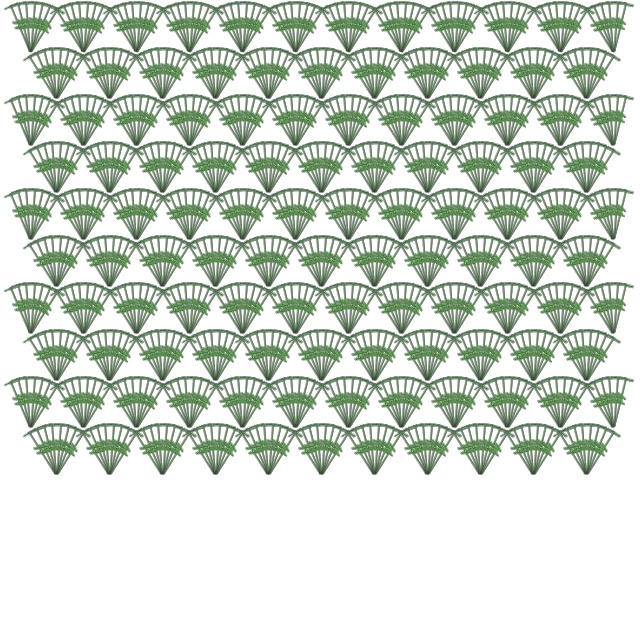fan: (23, 3, 67, 58), (48, 3, 92, 58), (76, 3, 120, 58), (101, 3, 145, 58), (129, 3, 173, 58), (154, 3, 198, 58), (182, 3, 226, 58), (207, 3, 251, 58), (235, 3, 279, 58), (260, 3, 304, 58), (288, 3, 332, 58), (313, 3, 357, 58), (341, 3, 385, 58), (366, 3, 410, 58), (394, 3, 438, 58), (419, 3, 463, 58), (447, 3, 491, 58), (472, 3, 516, 58), (500, 3, 544, 58), (525, 3, 569, 58), (553, 3, 597, 58), (578, 3, 622, 58), (21, 50, 65, 105), (49, 50, 93, 105), (74, 50, 118, 105), (102, 50, 146, 105), (127, 50, 171, 105), (155, 50, 199, 105), (180, 50, 224, 105), (208, 50, 252, 105), (233, 50, 277, 105), (261, 50, 305, 105), (286, 50, 330, 105), (314, 50, 358, 105), (339, 50, 383, 105), (367, 50, 411, 105), (392, 50, 436, 105), (420, 50, 464, 105), (445, 50, 489, 105), (473, 50, 517, 105), (498, 50, 542, 105), (526, 50, 570, 105), (551, 50, 595, 105), (579, 50, 623, 105), (23, 97, 67, 152), (48, 97, 92, 152), (76, 97, 120, 152), (101, 97, 145, 152), (129, 97, 173, 152), (154, 97, 198, 152), (182, 97, 226, 152), (207, 97, 251, 152), (235, 97, 279, 152), (260, 97, 304, 152), (288, 97, 332, 152), (313, 97, 357, 152), (341, 97, 385, 152), (366, 97, 410, 152), (394, 97, 438, 152), (419, 97, 463, 152), (447, 97, 491, 152), (472, 97, 516, 152), (500, 97, 544, 152), (525, 97, 569, 152), (553, 97, 597, 152), (578, 97, 622, 152), (21, 144, 65, 199), (49, 144, 93, 199), (74, 144, 118, 199), (102, 144, 146, 199), (127, 144, 171, 199), (155, 144, 199, 199), (180, 144, 224, 199), (208, 144, 252, 199), (233, 144, 277, 199), (261, 144, 305, 199), (286, 144, 330, 199), (314, 144, 358, 199), (339, 144, 383, 199), (367, 144, 411, 199), (392, 144, 436, 199), (420, 144, 464, 199), (445, 144, 489, 199), (473, 144, 517, 199), (498, 144, 542, 199), (526, 144, 570, 199), (551, 144, 595, 199), (579, 144, 623, 199), (23, 191, 67, 246), (48, 191, 92, 246), (76, 191, 120, 246), (101, 191, 145, 246), (129, 191, 173, 246), (154, 191, 198, 246), (182, 191, 226, 246), (207, 191, 251, 246), (235, 191, 279, 246), (260, 191, 304, 246), (288, 191, 332, 246), (313, 191, 357, 246), (341, 191, 385, 246), (366, 191, 410, 246), (394, 191, 438, 246), (419, 191, 463, 246), (447, 191, 491, 246), (472, 191, 516, 246), (500, 191, 544, 246), (525, 191, 569, 246), (553, 191, 597, 246), (578, 191, 622, 246), (21, 238, 65, 293), (49, 238, 93, 293), (74, 238, 118, 293), (102, 238, 146, 293), (127, 238, 171, 293), (155, 238, 199, 293), (180, 238, 224, 293), (208, 238, 252, 293), (233, 238, 277, 293), (261, 238, 305, 293), (286, 238, 330, 293), (314, 238, 358, 293), (339, 238, 383, 293), (367, 238, 411, 293), (392, 238, 436, 293), (420, 238, 464, 293), (445, 238, 489, 293), (473, 238, 517, 293), (498, 238, 542, 293), (526, 238, 570, 293), (551, 238, 595, 293), (579, 238, 623, 293), (23, 285, 67, 340), (48, 285, 92, 340), (76, 285, 120, 340), (101, 285, 145, 340), (129, 285, 173, 340), (154, 285, 198, 340), (182, 285, 226, 340), (207, 285, 251, 340), (235, 285, 279, 340), (260, 285, 304, 340), (288, 285, 332, 340), (313, 285, 357, 340), (341, 285, 385, 340), (366, 285, 410, 340), (394, 285, 438, 340), (419, 285, 463, 340), (447, 285, 491, 340), (472, 285, 516, 340), (500, 285, 544, 340), (525, 285, 569, 340), (553, 285, 597, 340), (578, 285, 622, 340), (21, 332, 65, 387), (49, 332, 93, 387), (74, 332, 118, 387), (102, 332, 146, 387), (127, 332, 171, 387), (155, 332, 199, 387), (180, 332, 224, 387), (208, 332, 252, 387), (233, 332, 277, 387), (261, 332, 305, 387), (286, 332, 330, 387), (314, 332, 358, 387), (339, 332, 383, 387), (367, 332, 411, 387), (392, 332, 436, 387), (420, 332, 464, 387), (445, 332, 489, 387), (473, 332, 517, 387), (498, 332, 542, 387), (526, 332, 570, 387), (551, 332, 595, 387), (579, 332, 623, 387), (23, 379, 67, 434), (48, 379, 92, 434), (76, 379, 120, 434), (101, 379, 145, 434), (129, 379, 173, 434), (154, 379, 198, 434), (182, 379, 226, 434), (207, 379, 251, 434), (235, 379, 279, 434), (260, 379, 304, 434), (288, 379, 332, 434), (313, 379, 357, 434), (341, 379, 385, 434), (366, 379, 410, 434), (394, 379, 438, 434), (419, 379, 463, 434), (447, 379, 491, 434), (472, 379, 516, 434), (500, 379, 544, 434), (525, 379, 569, 434), (553, 379, 597, 434), (578, 379, 622, 434), (21, 426, 65, 481), (49, 426, 93, 481), (74, 426, 118, 481), (102, 426, 146, 481), (127, 426, 171, 481), (155, 426, 199, 481), (180, 426, 224, 481), (208, 426, 252, 481), (233, 426, 277, 481), (261, 426, 305, 481), (286, 426, 330, 481), (314, 426, 358, 481), (339, 426, 383, 481), (367, 426, 411, 481), (392, 426, 436, 481), (420, 426, 464, 481), (445, 426, 489, 481), (473, 426, 517, 481), (498, 426, 542, 481), (526, 426, 570, 481), (551, 426, 595, 481), (579, 426, 623, 481), (2, 1, 39, 56), (23, 1, 60, 56), (55, 1, 92, 56), (76, 1, 113, 56), (108, 1, 145, 56), (129, 1, 166, 56), (161, 1, 198, 56), (182, 1, 219, 56), (214, 1, 251, 56), (235, 1, 272, 56), (267, 1, 304, 56), (288, 1, 325, 56), (320, 1, 357, 56), (341, 1, 378, 56), (373, 1, 410, 56), (394, 1, 431, 56), (426, 1, 463, 56), (447, 1, 484, 56), (479, 1, 516, 56), (500, 1, 537, 56), (532, 1, 569, 56), (553, 1, 590, 56), (585, 1, 622, 56), (28, 48, 65, 103), (49, 48, 86, 103), (81, 48, 118, 103), (102, 48, 139, 103), (134, 48, 171, 103), (155, 48, 192, 103), (187, 48, 224, 103), (208, 48, 245, 103), (240, 48, 277, 103), (261, 48, 298, 103), (293, 48, 330, 103), (314, 48, 351, 103), (346, 48, 383, 103), (367, 48, 404, 103), (399, 48, 436, 103), (420, 48, 457, 103), (452, 48, 489, 103), (473, 48, 510, 103), (505, 48, 542, 103), (526, 48, 563, 103), (558, 48, 595, 103), (579, 48, 616, 103), (2, 95, 39, 150), (23, 95, 60, 150), (55, 95, 92, 150), (76, 95, 113, 150), (108, 95, 145, 150), (129, 95, 166, 150), (161, 95, 198, 150), (182, 95, 219, 150), (214, 95, 251, 150), (235, 95, 272, 150), (267, 95, 304, 150), (288, 95, 325, 150), (320, 95, 357, 150), (341, 95, 378, 150), (373, 95, 410, 150), (394, 95, 431, 150), (426, 95, 463, 150), (447, 95, 484, 150), (479, 95, 516, 150), (500, 95, 537, 150), (532, 95, 569, 150), (553, 95, 590, 150), (585, 95, 622, 150), (28, 142, 65, 197), (49, 142, 86, 197), (81, 142, 118, 197), (102, 142, 139, 197), (134, 142, 171, 197), (155, 142, 192, 197), (187, 142, 224, 197), (208, 142, 245, 197), (240, 142, 277, 197), (261, 142, 298, 197), (293, 142, 330, 197), (314, 142, 351, 197), (346, 142, 383, 197), (367, 142, 404, 197), (399, 142, 436, 197), (420, 142, 457, 197), (452, 142, 489, 197), (473, 142, 510, 197), (505, 142, 542, 197), (526, 142, 563, 197), (558, 142, 595, 197), (579, 142, 616, 197), (2, 189, 39, 244), (23, 189, 60, 244), (55, 189, 92, 244), (76, 189, 113, 244), (108, 189, 145, 244), (129, 189, 166, 244), (161, 189, 198, 244), (182, 189, 219, 244), (214, 189, 251, 244), (235, 189, 272, 244), (267, 189, 304, 244), (288, 189, 325, 244), (320, 189, 357, 244), (341, 189, 378, 244), (373, 189, 410, 244), (394, 189, 431, 244), (426, 189, 463, 244), (447, 189, 484, 244), (479, 189, 516, 244), (500, 189, 537, 244), (532, 189, 569, 244), (553, 189, 590, 244), (585, 189, 622, 244), (28, 236, 65, 291), (49, 236, 86, 291), (81, 236, 118, 291), (102, 236, 139, 291), (134, 236, 171, 291), (155, 236, 192, 291), (187, 236, 224, 291), (208, 236, 245, 291), (240, 236, 277, 291), (261, 236, 298, 291), (293, 236, 330, 291), (314, 236, 351, 291), (346, 236, 383, 291), (367, 236, 404, 291), (399, 236, 436, 291), (420, 236, 457, 291), (452, 236, 489, 291), (473, 236, 510, 291), (505, 236, 542, 291), (526, 236, 563, 291), (558, 236, 595, 291), (579, 236, 616, 291), (2, 283, 39, 338), (23, 283, 60, 338), (55, 283, 92, 338), (76, 283, 113, 338), (108, 283, 145, 338), (129, 283, 166, 338), (161, 283, 198, 338), (182, 283, 219, 338), (214, 283, 251, 338), (235, 283, 272, 338), (267, 283, 304, 338), (288, 283, 325, 338), (320, 283, 357, 338), (341, 283, 378, 338), (373, 283, 410, 338), (394, 283, 431, 338), (426, 283, 463, 338), (447, 283, 484, 338), (479, 283, 516, 338), (500, 283, 537, 338), (532, 283, 569, 338), (553, 283, 590, 338), (585, 283, 622, 338), (28, 330, 65, 385), (49, 330, 86, 385), (81, 330, 118, 385), (102, 330, 139, 385), (134, 330, 171, 385), (155, 330, 192, 385), (187, 330, 224, 385), (208, 330, 245, 385), (240, 330, 277, 385), (261, 330, 298, 385), (293, 330, 330, 385), (314, 330, 351, 385), (346, 330, 383, 385), (367, 330, 404, 385), (399, 330, 436, 385), (420, 330, 457, 385), (452, 330, 489, 385), (473, 330, 510, 385), (505, 330, 542, 385), (526, 330, 563, 385), (558, 330, 595, 385), (579, 330, 616, 385), (2, 377, 39, 432), (23, 377, 60, 432), (55, 377, 92, 432), (76, 377, 113, 432), (108, 377, 145, 432), (129, 377, 166, 432), (161, 377, 198, 432), (182, 377, 219, 432), (214, 377, 251, 432), (235, 377, 272, 432), (267, 377, 304, 432), (288, 377, 325, 432), (320, 377, 357, 432), (341, 377, 378, 432), (373, 377, 410, 432), (394, 377, 431, 432), (426, 377, 463, 432), (447, 377, 484, 432), (479, 377, 516, 432), (500, 377, 537, 432), (532, 377, 569, 432), (553, 377, 590, 432), (585, 377, 622, 432), (28, 424, 65, 479), (49, 424, 86, 479), (81, 424, 118, 479), (102, 424, 139, 479), (134, 424, 171, 479), (155, 424, 192, 479), (187, 424, 224, 479), (208, 424, 245, 479), (240, 424, 277, 479), (261, 424, 298, 479), (293, 424, 330, 479), (314, 424, 351, 479), (346, 424, 383, 479), (367, 424, 404, 479), (399, 424, 436, 479), (420, 424, 457, 479), (452, 424, 489, 479), (473, 424, 510, 479), (505, 424, 542, 479), (526, 424, 563, 479), (558, 424, 595, 479), (579, 424, 616, 479), (36, 46, 66, 102), (48, 46, 78, 102), (89, 46, 119, 102), (101, 46, 131, 102), (142, 46, 172, 102), (154, 46, 184, 102), (195, 46, 225, 102), (207, 46, 237, 102), (248, 46, 278, 102), (260, 46, 290, 102), (301, 46, 331, 102), (313, 46, 343, 102), (354, 46, 384, 102), (366, 46, 396, 102), (407, 46, 437, 102), (419, 46, 449, 102), (460, 46, 490, 102), (472, 46, 502, 102), (513, 46, 543, 102), (525, 46, 555, 102), (566, 46, 596, 102), (578, 46, 608, 102), (10, 93, 40, 149), (22, 93, 52, 149), (63, 93, 93, 149), (75, 93, 105, 149), (116, 93, 146, 149), (128, 93, 158, 149), (169, 93, 199, 149), (181, 93, 211, 149), (222, 93, 252, 149), (234, 93, 264, 149), (275, 93, 305, 149), (287, 93, 317, 149), (328, 93, 358, 149), (340, 93, 370, 149), (381, 93, 411, 149), (393, 93, 423, 149), (434, 93, 464, 149), (446, 93, 476, 149), (487, 93, 517, 149), (499, 93, 529, 149), (540, 93, 570, 149), (552, 93, 582, 149), (593, 93, 623, 149), (605, 93, 635, 149), (36, 140, 66, 196), (48, 140, 78, 196), (89, 140, 119, 196), (101, 140, 131, 196), (142, 140, 172, 196), (154, 140, 184, 196), (195, 140, 225, 196), (207, 140, 237, 196), (248, 140, 278, 196), (260, 140, 290, 196), (301, 140, 331, 196), (313, 140, 343, 196), (354, 140, 384, 196), (366, 140, 396, 196), (407, 140, 437, 196), (419, 140, 449, 196), (460, 140, 490, 196), (472, 140, 502, 196), (513, 140, 543, 196), (525, 140, 555, 196), (566, 140, 596, 196), (578, 140, 608, 196), (10, 187, 40, 243), (22, 187, 52, 243), (63, 187, 93, 243), (75, 187, 105, 243), (116, 187, 146, 243), (128, 187, 158, 243), (169, 187, 199, 243), (181, 187, 211, 243), (222, 187, 252, 243), (234, 187, 264, 243), (275, 187, 305, 243), (287, 187, 317, 243), (328, 187, 358, 243), (340, 187, 370, 243), (381, 187, 411, 243), (393, 187, 423, 243), (434, 187, 464, 243), (446, 187, 476, 243), (487, 187, 517, 243), (499, 187, 529, 243), (540, 187, 570, 243), (552, 187, 582, 243), (593, 187, 623, 243), (605, 187, 635, 243), (36, 234, 66, 290), (48, 234, 78, 290), (89, 234, 119, 290), (101, 234, 131, 290), (142, 234, 172, 290), (154, 234, 184, 290), (195, 234, 225, 290), (207, 234, 237, 290), (248, 234, 278, 290), (260, 234, 290, 290), (301, 234, 331, 290), (313, 234, 343, 290), (354, 234, 384, 290), (366, 234, 396, 290), (407, 234, 437, 290), (419, 234, 449, 290), (460, 234, 490, 290), (472, 234, 502, 290), (513, 234, 543, 290), (525, 234, 555, 290), (566, 234, 596, 290), (578, 234, 608, 290), (10, 281, 40, 337), (22, 281, 52, 337), (63, 281, 93, 337), (75, 281, 105, 337), (116, 281, 146, 337), (128, 281, 158, 337), (169, 281, 199, 337), (181, 281, 211, 337), (222, 281, 252, 337), (234, 281, 264, 337), (275, 281, 305, 337), (287, 281, 317, 337), (328, 281, 358, 337), (340, 281, 370, 337), (381, 281, 411, 337), (393, 281, 423, 337), (434, 281, 464, 337), (446, 281, 476, 337), (487, 281, 517, 337), (499, 281, 529, 337), (540, 281, 570, 337), (552, 281, 582, 337), (593, 281, 623, 337), (605, 281, 635, 337), (36, 328, 66, 384), (48, 328, 78, 384), (89, 328, 119, 384), (101, 328, 131, 384), (142, 328, 172, 384), (154, 328, 184, 384), (195, 328, 225, 384), (207, 328, 237, 384), (248, 328, 278, 384), (260, 328, 290, 384), (301, 328, 331, 384), (313, 328, 343, 384), (354, 328, 384, 384), (366, 328, 396, 384), (407, 328, 437, 384), (419, 328, 449, 384), (460, 328, 490, 384), (472, 328, 502, 384), (513, 328, 543, 384), (525, 328, 555, 384), (566, 328, 596, 384), (578, 328, 608, 384), (10, 375, 40, 431), (22, 375, 52, 431), (63, 375, 93, 431), (75, 375, 105, 431), (116, 375, 146, 431), (128, 375, 158, 431), (169, 375, 199, 431), (181, 375, 211, 431), (222, 375, 252, 431), (234, 375, 264, 431), (275, 375, 305, 431), (287, 375, 317, 431), (328, 375, 358, 431), (340, 375, 370, 431), (381, 375, 411, 431), (393, 375, 423, 431), (434, 375, 464, 431), (446, 375, 476, 431), (487, 375, 517, 431), (499, 375, 529, 431), (540, 375, 570, 431), (552, 375, 582, 431), (593, 375, 623, 431), (605, 375, 635, 431), (36, 422, 66, 478), (48, 422, 78, 478), (89, 422, 119, 478), (101, 422, 131, 478), (142, 422, 172, 478), (154, 422, 184, 478), (195, 422, 225, 478), (207, 422, 237, 478), (248, 422, 278, 478), (260, 422, 290, 478), (301, 422, 331, 478), (313, 422, 343, 478), (354, 422, 384, 478), (366, 422, 396, 478), (407, 422, 437, 478), (419, 422, 449, 478), (460, 422, 490, 478), (472, 422, 502, 478), (513, 422, 543, 478), (525, 422, 555, 478), (566, 422, 596, 478), (578, 422, 608, 478), (10, 0, 40, 55), (22, 0, 52, 55), (63, 0, 93, 55), (75, 0, 105, 55), (116, 0, 146, 55), (128, 0, 158, 55), (169, 0, 199, 55), (181, 0, 211, 55), (222, 0, 252, 55), (234, 0, 264, 55), (275, 0, 305, 55), (287, 0, 317, 55), (328, 0, 358, 55), (340, 0, 370, 55), (381, 0, 411, 55), (393, 0, 423, 55), (434, 0, 464, 55), (446, 0, 476, 55), (487, 0, 517, 55), (499, 0, 529, 55), (540, 0, 570, 55), (552, 0, 582, 55), (593, 0, 623, 55), (605, 0, 635, 55), (44, 46, 66, 101), (48, 46, 70, 101), (97, 46, 119, 101), (101, 46, 123, 101), (150, 46, 172, 101), (154, 46, 176, 101), (203, 46, 225, 101), (207, 46, 229, 101), (256, 46, 278, 101), (260, 46, 282, 101), (309, 46, 331, 101), (313, 46, 335, 101), (362, 46, 384, 101), (366, 46, 388, 101), (415, 46, 437, 101), (419, 46, 441, 101), (468, 46, 490, 101), (472, 46, 494, 101), (521, 46, 543, 101), (525, 46, 547, 101), (574, 46, 596, 101), (578, 46, 600, 101), (18, 93, 40, 148), (22, 93, 44, 148), (71, 93, 93, 148), (75, 93, 97, 148), (124, 93, 146, 148), (128, 93, 150, 148), (177, 93, 199, 148), (181, 93, 203, 148), (230, 93, 252, 148), (234, 93, 256, 148), (283, 93, 305, 148), (287, 93, 309, 148), (336, 93, 358, 148), (340, 93, 362, 148), (389, 93, 411, 148), (393, 93, 415, 148), (442, 93, 464, 148), (446, 93, 468, 148), (495, 93, 517, 148), (499, 93, 521, 148), (548, 93, 570, 148), (552, 93, 574, 148), (601, 93, 623, 148), (605, 93, 627, 148), (44, 140, 66, 195), (48, 140, 70, 195), (97, 140, 119, 195), (101, 140, 123, 195), (150, 140, 172, 195), (154, 140, 176, 195), (203, 140, 225, 195), (207, 140, 229, 195), (256, 140, 278, 195), (260, 140, 282, 195), (309, 140, 331, 195), (313, 140, 335, 195), (362, 140, 384, 195), (366, 140, 388, 195), (415, 140, 437, 195), (419, 140, 441, 195), (468, 140, 490, 195), (472, 140, 494, 195), (521, 140, 543, 195), (525, 140, 547, 195), (574, 140, 596, 195), (578, 140, 600, 195), (18, 187, 40, 242), (22, 187, 44, 242), (71, 187, 93, 242), (75, 187, 97, 242), (124, 187, 146, 242), (128, 187, 150, 242), (177, 187, 199, 242), (181, 187, 203, 242), (230, 187, 252, 242), (234, 187, 256, 242), (283, 187, 305, 242), (287, 187, 309, 242), (336, 187, 358, 242), (340, 187, 362, 242), (389, 187, 411, 242), (393, 187, 415, 242), (442, 187, 464, 242), (446, 187, 468, 242), (495, 187, 517, 242), (499, 187, 521, 242), (548, 187, 570, 242), (552, 187, 574, 242), (601, 187, 623, 242), (605, 187, 627, 242), (44, 234, 66, 289), (48, 234, 70, 289), (97, 234, 119, 289), (101, 234, 123, 289), (150, 234, 172, 289), (154, 234, 176, 289), (203, 234, 225, 289), (207, 234, 229, 289), (256, 234, 278, 289), (260, 234, 282, 289), (309, 234, 331, 289), (313, 234, 335, 289), (362, 234, 384, 289), (366, 234, 388, 289), (415, 234, 437, 289), (419, 234, 441, 289), (468, 234, 490, 289), (472, 234, 494, 289), (521, 234, 543, 289), (525, 234, 547, 289), (574, 234, 596, 289), (578, 234, 600, 289), (18, 281, 40, 336), (22, 281, 44, 336), (71, 281, 93, 336), (75, 281, 97, 336), (124, 281, 146, 336), (128, 281, 150, 336), (177, 281, 199, 336), (181, 281, 203, 336), (230, 281, 252, 336), (234, 281, 256, 336), (283, 281, 305, 336), (287, 281, 309, 336), (336, 281, 358, 336), (340, 281, 362, 336), (389, 281, 411, 336), (393, 281, 415, 336), (442, 281, 464, 336), (446, 281, 468, 336), (495, 281, 517, 336), (499, 281, 521, 336), (548, 281, 570, 336), (552, 281, 574, 336), (601, 281, 623, 336), (605, 281, 627, 336), (44, 328, 66, 383), (48, 328, 70, 383), (97, 328, 119, 383), (101, 328, 123, 383), (150, 328, 172, 383), (154, 328, 176, 383), (203, 328, 225, 383), (207, 328, 229, 383), (256, 328, 278, 383), (260, 328, 282, 383), (309, 328, 331, 383), (313, 328, 335, 383), (362, 328, 384, 383), (366, 328, 388, 383), (415, 328, 437, 383), (419, 328, 441, 383), (468, 328, 490, 383), (472, 328, 494, 383), (521, 328, 543, 383), (525, 328, 547, 383), (574, 328, 596, 383), (578, 328, 600, 383), (18, 375, 40, 430), (22, 375, 44, 430), (71, 375, 93, 430), (75, 375, 97, 430), (124, 375, 146, 430), (128, 375, 150, 430), (177, 375, 199, 430), (181, 375, 203, 430), (230, 375, 252, 430), (234, 375, 256, 430), (283, 375, 305, 430), (287, 375, 309, 430), (336, 375, 358, 430), (340, 375, 362, 430), (389, 375, 411, 430), (393, 375, 415, 430), (442, 375, 464, 430), (446, 375, 468, 430), (495, 375, 517, 430), (499, 375, 521, 430), (548, 375, 570, 430), (552, 375, 574, 430), (601, 375, 623, 430), (605, 375, 627, 430), (44, 422, 66, 477), (48, 422, 70, 477), (97, 422, 119, 477), (101, 422, 123, 477), (150, 422, 172, 477), (154, 422, 176, 477), (203, 422, 225, 477), (207, 422, 229, 477), (256, 422, 278, 477), (260, 422, 282, 477), (309, 422, 331, 477), (313, 422, 335, 477), (362, 422, 384, 477), (366, 422, 388, 477), (415, 422, 437, 477), (419, 422, 441, 477), (468, 422, 490, 477), (472, 422, 494, 477), (521, 422, 543, 477), (525, 422, 547, 477), (574, 422, 596, 477), (578, 422, 600, 477), (18, 0, 40, 54), (22, 0, 44, 54), (71, 0, 93, 54), (75, 0, 97, 54), (124, 0, 146, 54), (128, 0, 150, 54), (177, 0, 199, 54), (181, 0, 203, 54), (230, 0, 252, 54), (234, 0, 256, 54), (283, 0, 305, 54), (287, 0, 309, 54), (336, 0, 358, 54), (340, 0, 362, 54), (389, 0, 411, 54), (393, 0, 415, 54), (442, 0, 464, 54), (446, 0, 468, 54), (495, 0, 517, 54), (499, 0, 521, 54), (548, 0, 570, 54), (552, 0, 574, 54), (601, 0, 623, 54), (605, 0, 627, 54)
